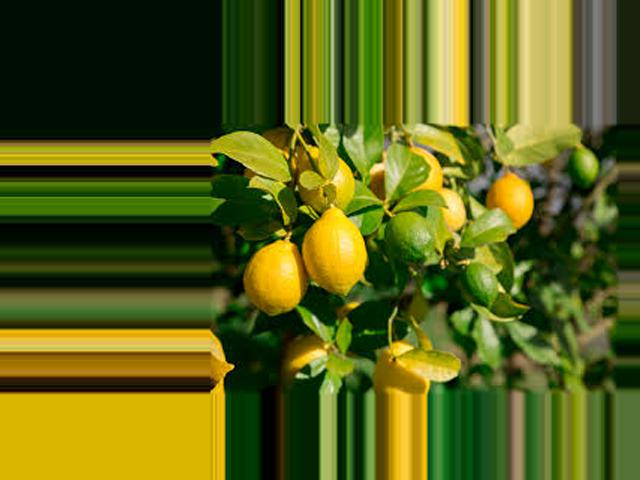lemon: (485, 168, 545, 243)
